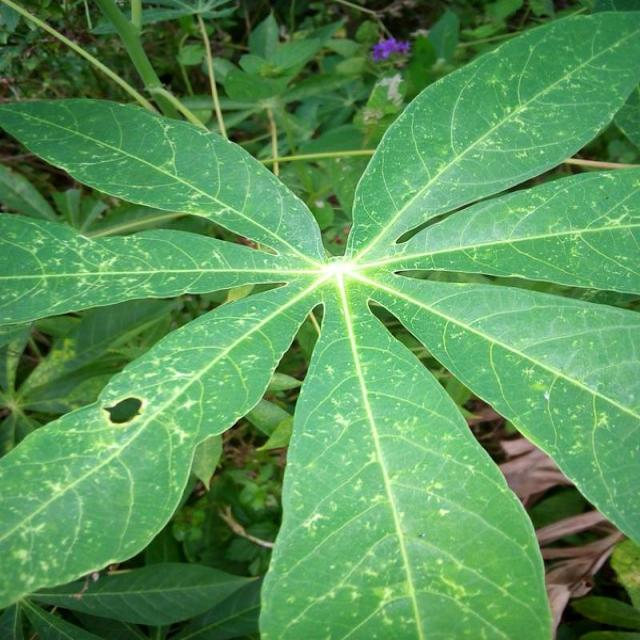cassava leaf: (2, 7, 639, 637), (258, 276, 556, 638)
